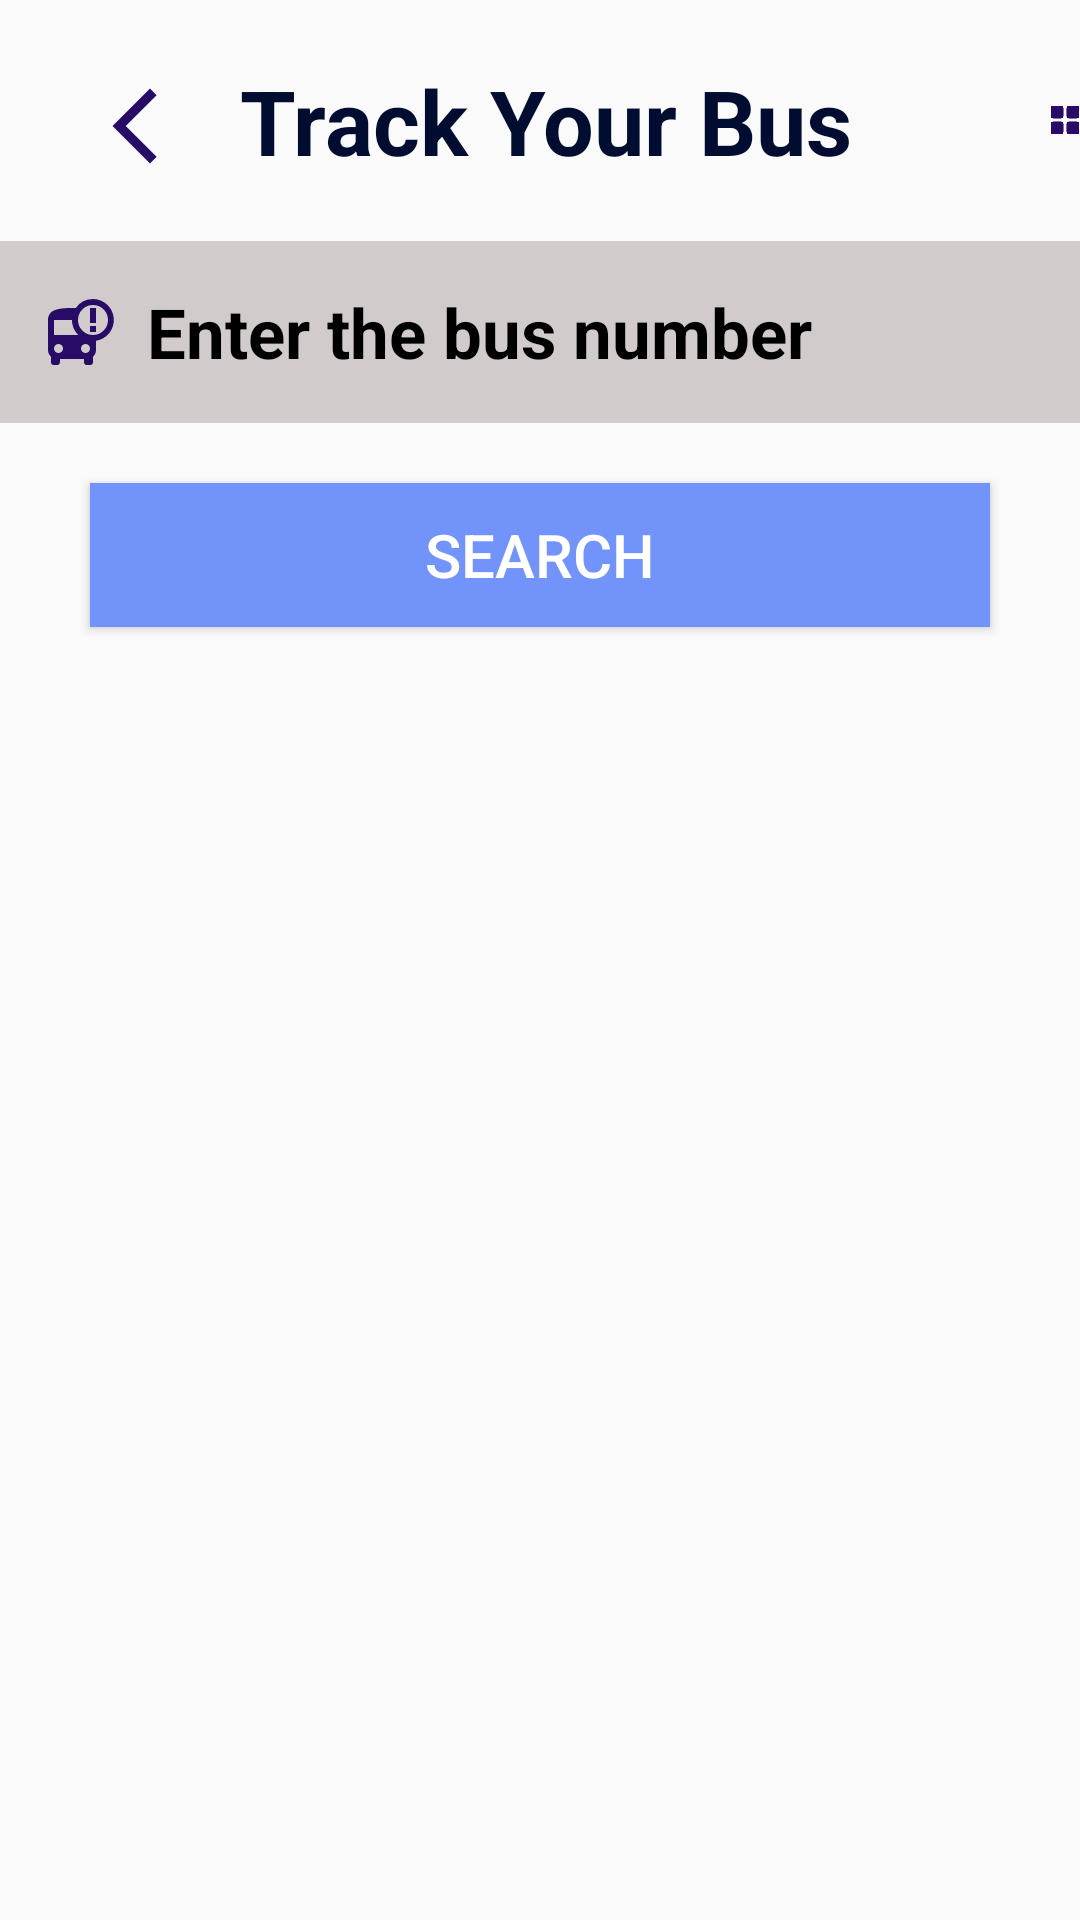

Where icons sit on this 1080x1920 app screen, as (x1, y1, x2, y2):
arrow back: (112, 88, 157, 164)
menu: (1051, 106, 1079, 134)
